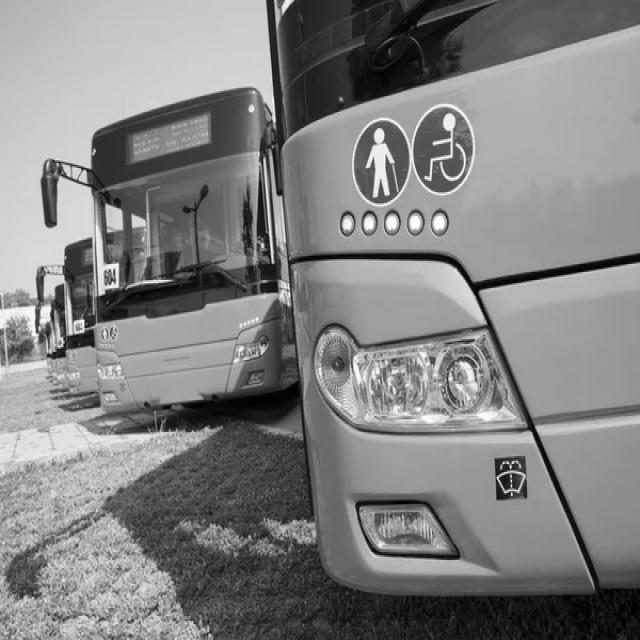Bus: (271, 1, 640, 596), (75, 86, 297, 412)
